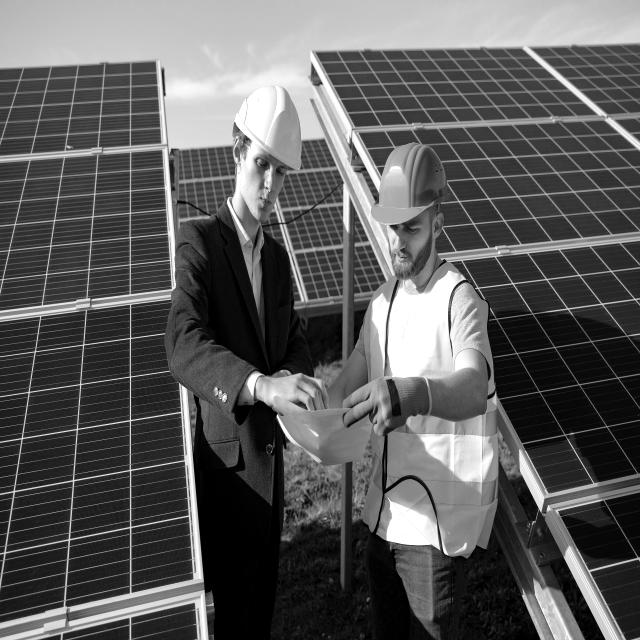No-Vest: (178, 211, 294, 491)
Vest: (367, 272, 497, 553)
